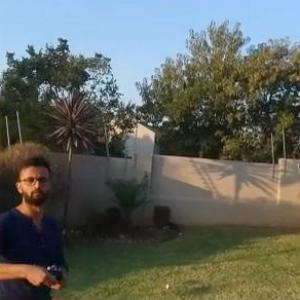follow: (0, 148, 73, 299)
